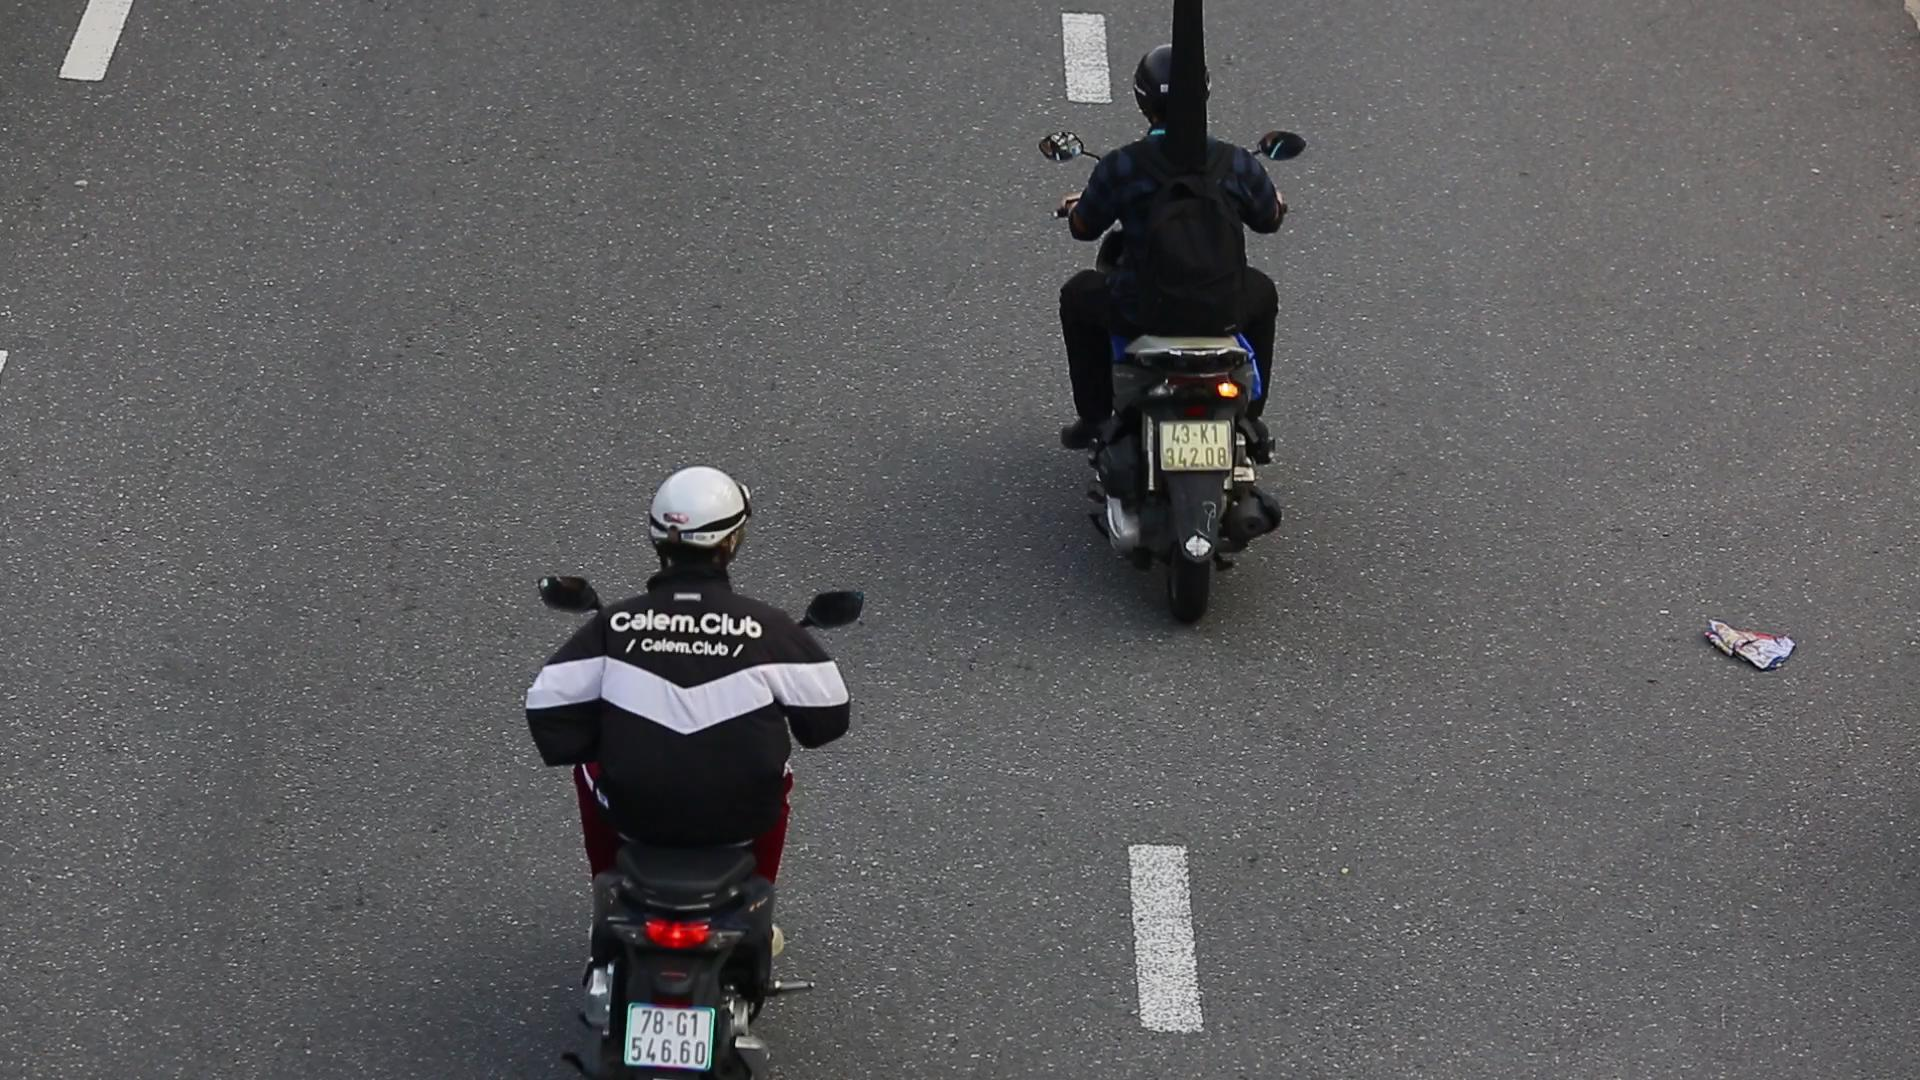motobike: (514, 402, 887, 1080), (1011, 32, 1316, 661)
